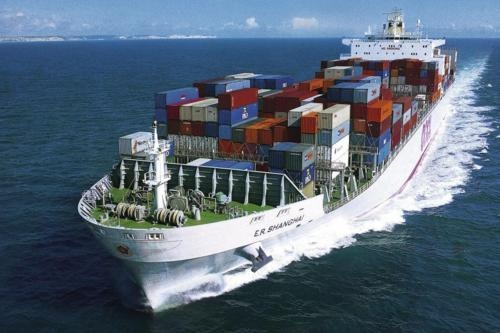Cargoship: (80, 12, 458, 292)
